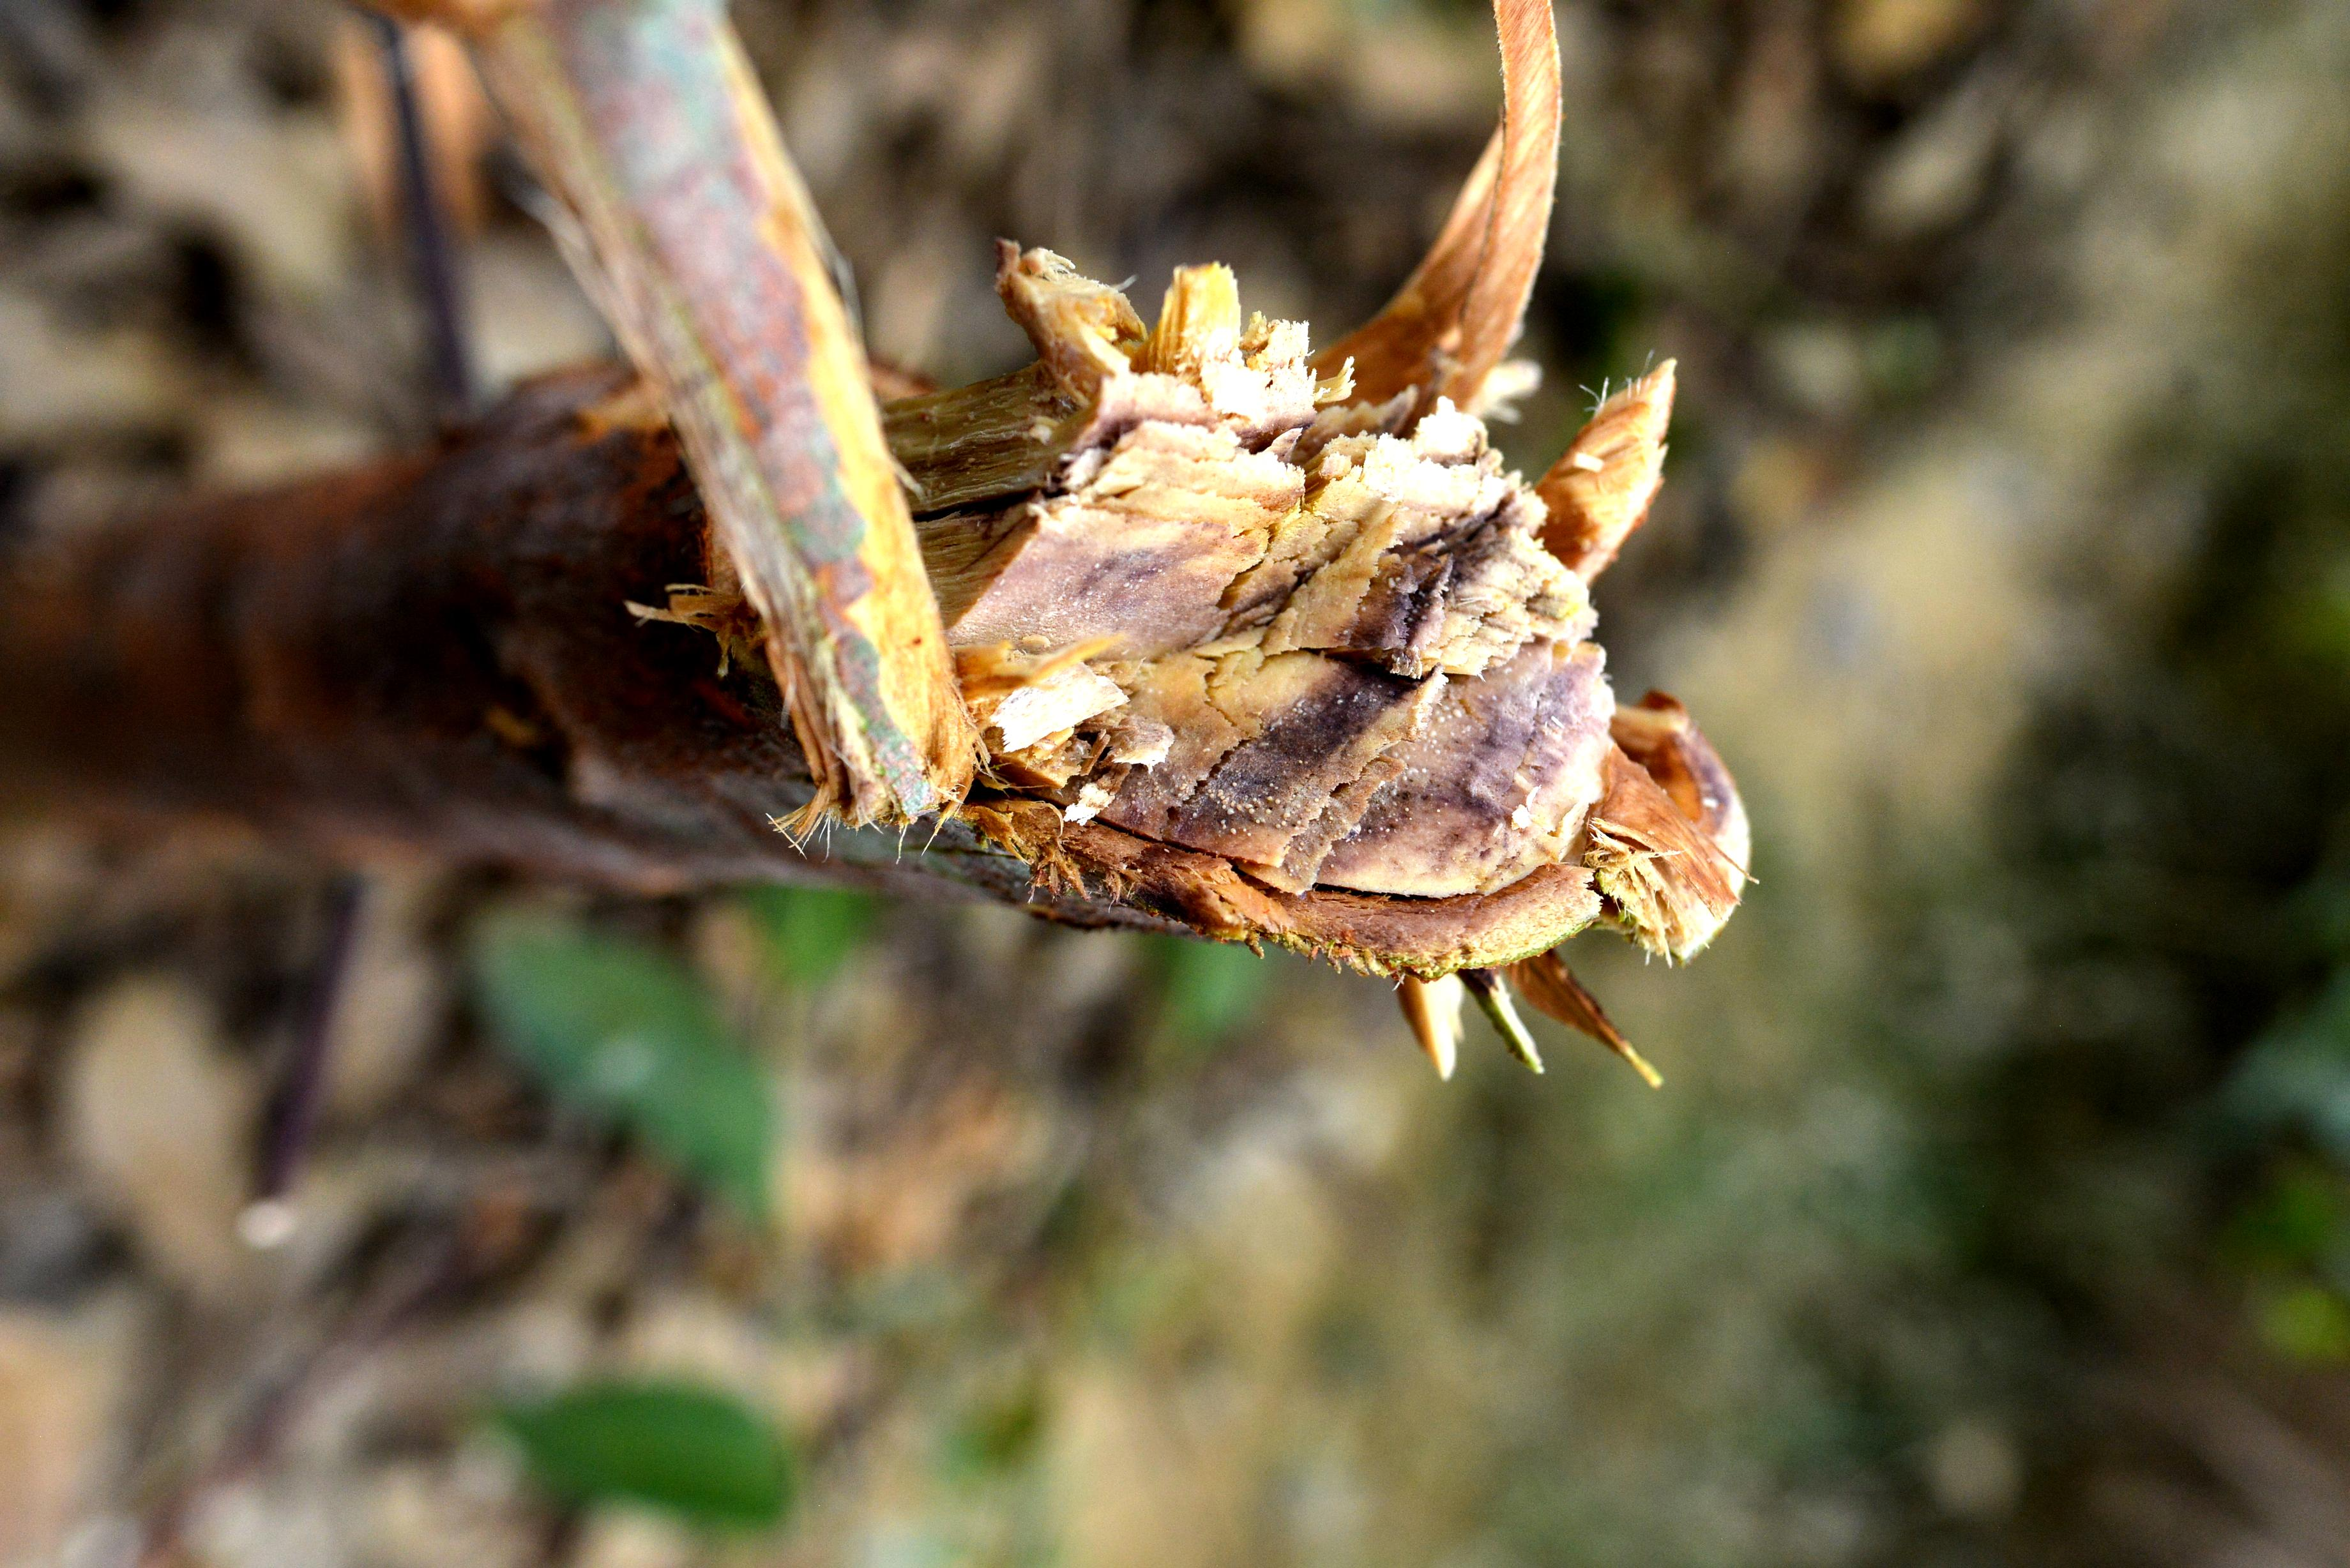Ralstonia: (1143, 707, 1468, 871), (971, 534, 1206, 661), (1183, 325, 1258, 399)
